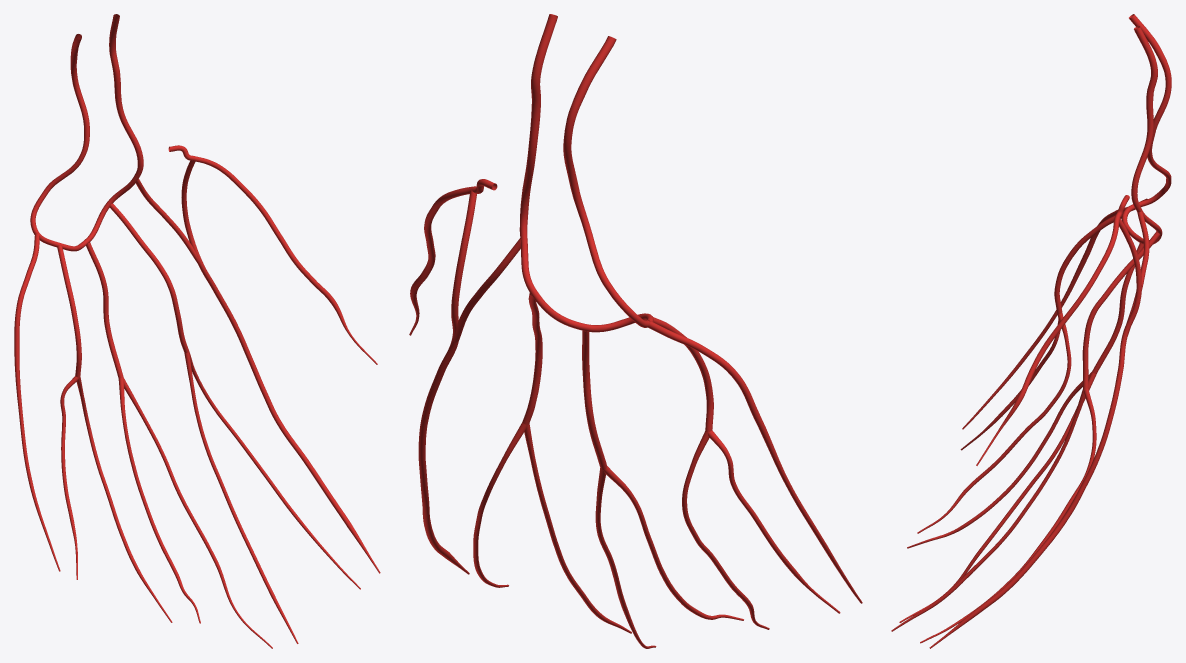
The model's file is circulatorio-superficial-venous-palmar-arch-l.glb.
3 renders of one model, left to right at view 1: azimuth 30°, elevation 25°; view 2: azimuth 150°, elevation 25°; view 3: azimuth 270°, elevation 25°, orthographic. The views are drawn at different scales.
Visible parts, largest first — view 1: Palmar digital veins.l, Superficial venous palmar arch.l; view 2: Palmar digital veins.l, Superficial venous palmar arch.l; view 3: Palmar digital veins.l, Superficial venous palmar arch.l.
Part boxes in pixels (x1,y1,x2,y2): Palmar digital veins.l: (14,145,380,648); Superficial venous palmar arch.l: (30,14,143,251); Palmar digital veins.l: (409,179,862,648); Superficial venous palmar arch.l: (519,14,653,332); Palmar digital veins.l: (891,195,1160,648); Superficial venous palmar arch.l: (1121,14,1171,244).
Size of the model in its own units: 0.0999 by 0.1633 by 0.072.
